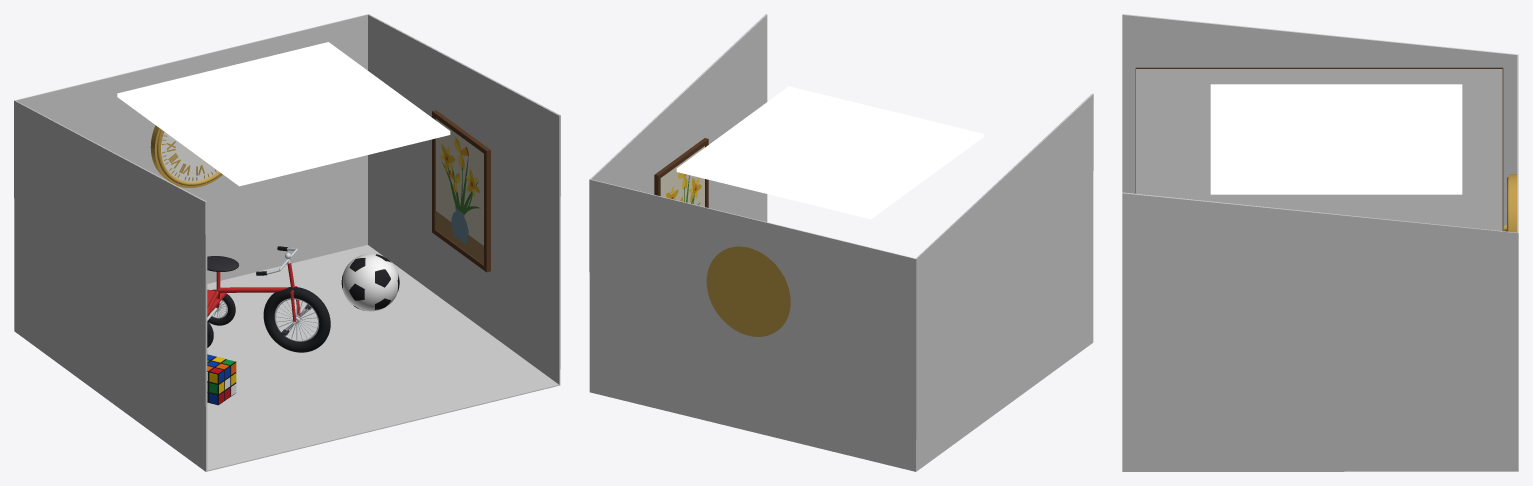
The model's file is tricycle.glb.
The picture shows the model from 3 angles, left to right: view 1: azimuth 30°, elevation 25°; view 2: azimuth 150°, elevation 25°; view 3: azimuth 270°, elevation 25°; orthographic projection. The views are drawn at different scales.
Parts seen in each view (by area): view 1: suzanneRoom, light, paintCanvas, rubber, frame, ballWhite, clockFace, brass, chrome, red, ebony, paintTable; view 2: suzanneRoom, light, brass, paintCanvas, frame; view 3: suzanneRoom, light, mirror, frame, brass.
Boxes of the visible parts, x1,y1,x2,y2 form: suzanneRoom: (14,14,560,471); light: (117,42,450,186); paintCanvas: (436,119,483,245); rubber: (207,287,330,352); frame: (432,110,490,272); ballWhite: (342,253,398,311); clockFace: (161,132,218,181); brass: (150,125,222,187); chrome: (207,248,319,341); red: (207,263,300,322); ebony: (341,254,399,310); paintTable: (435,211,483,264); suzanneRoom: (589,14,1093,471); light: (676,86,983,219); brass: (706,246,790,336); paintCanvas: (660,146,704,206); frame: (654,138,708,207); suzanneRoom: (1122,14,1518,471); light: (1210,84,1462,194); mirror: (1136,69,1502,230); frame: (1135,67,1503,230); brass: (1504,174,1517,232).
Size of the model in its own units: 9.94 by 7.21 by 9.29.
